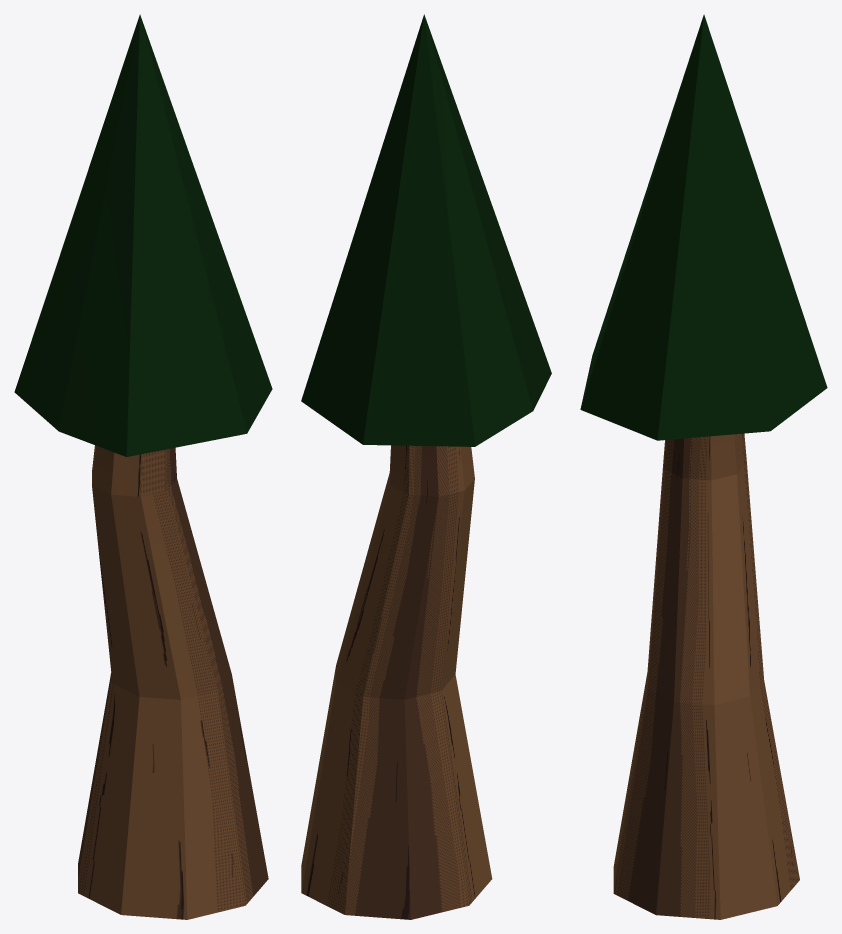
File: Pino Chico.fbx
The picture shows the model from 3 angles, left to right: view 1: azimuth 30°, elevation 25°; view 2: azimuth 150°, elevation 25°; view 3: azimuth 270°, elevation 25°; orthographic projection. The views are drawn at different scales.
Visible parts, largest first — view 1: Pino Chico; view 2: Pino Chico; view 3: Pino Chico.
Part boxes in pixels (left/top/right/bottom): Pino Chico: left=14, top=14, right=272, bottom=919; Pino Chico: left=301, top=14, right=551, bottom=919; Pino Chico: left=580, top=14, right=827, bottom=919.
Size of the model in its own units: 47.01 by 49.24 by 187.
Materials: 2 (1 with a texture image).
